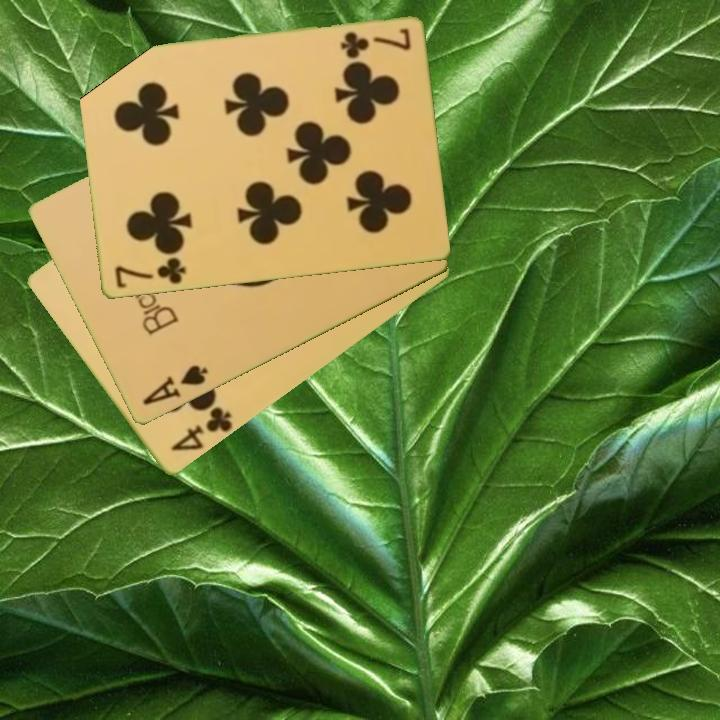4c: (166, 403, 236, 455)
7c: (110, 254, 188, 292), (337, 25, 413, 61)
As: (138, 361, 211, 409)
